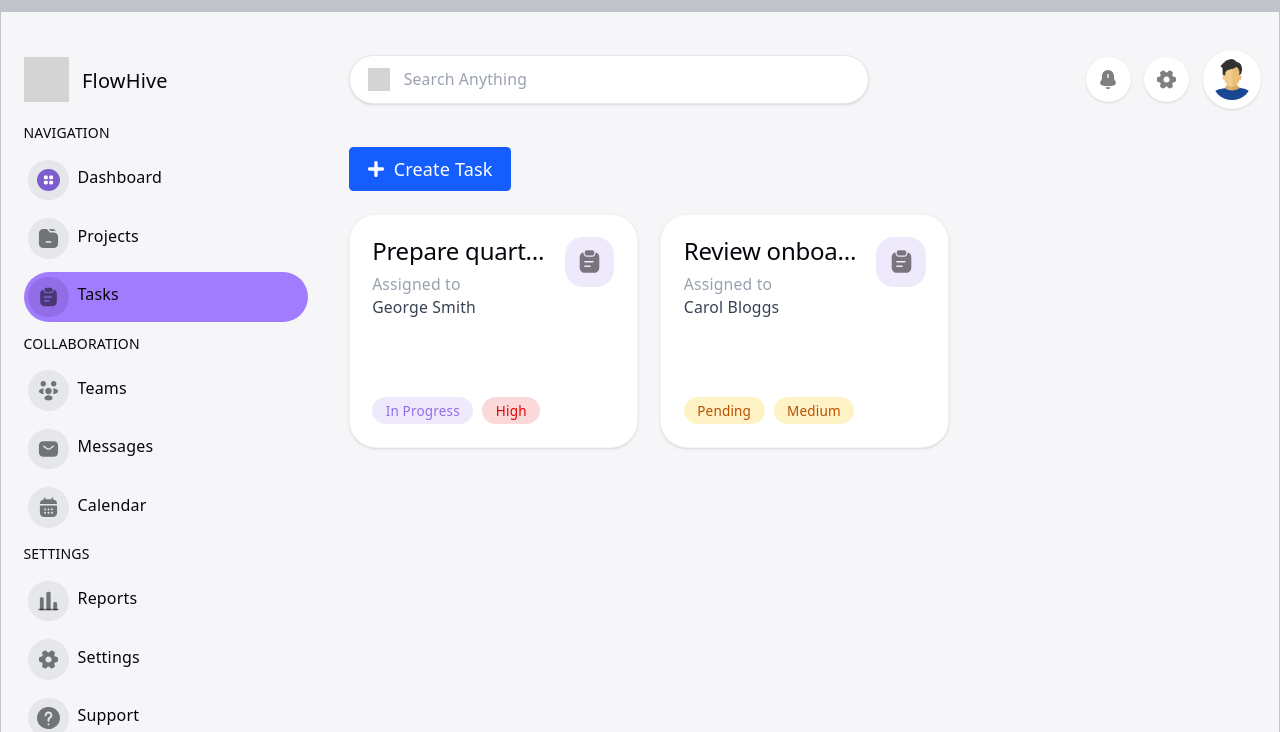
Test: Tasks › opens the create task form and creates a task
Click the button "Create Task". click: coordinates (430, 169)
box: [349, 147, 511, 191]
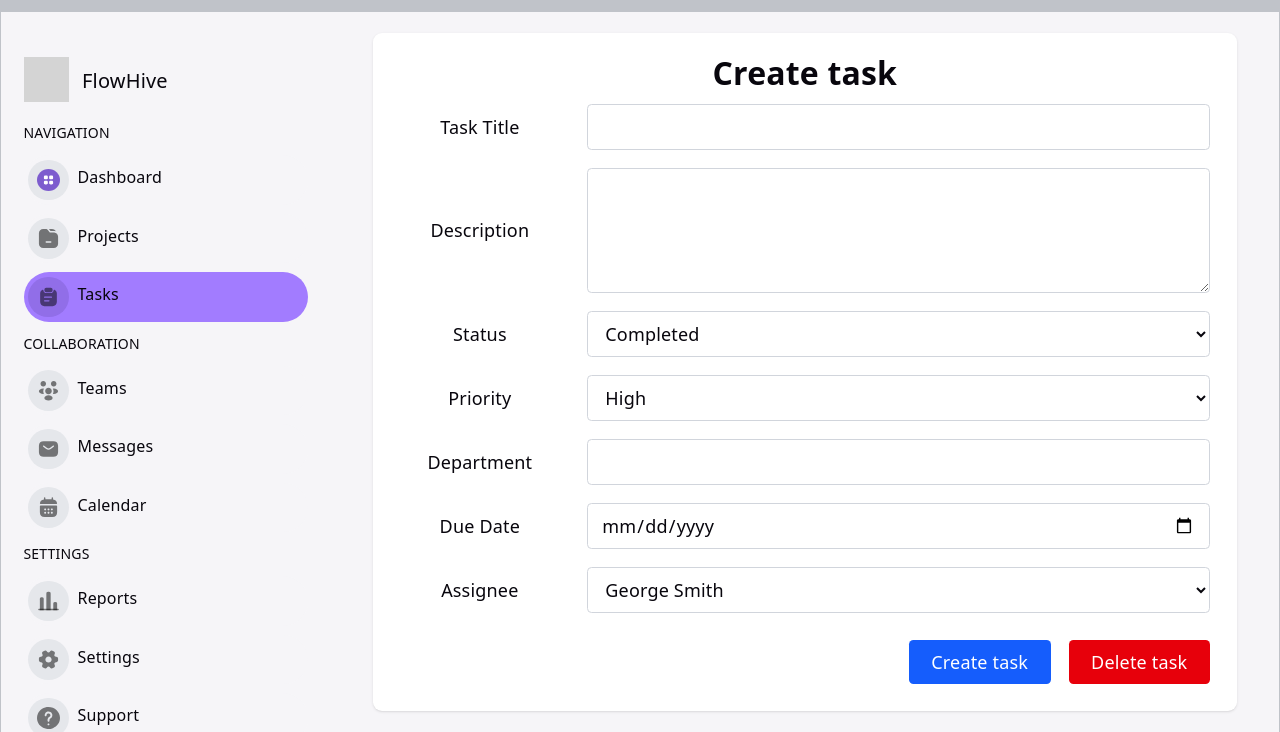
Check: the text "Create task" is shown, box [712, 51, 897, 94]
Type "Prepare quarterly report" into the field with id "title". click: coordinates (899, 127)
box: [587, 104, 1210, 150]
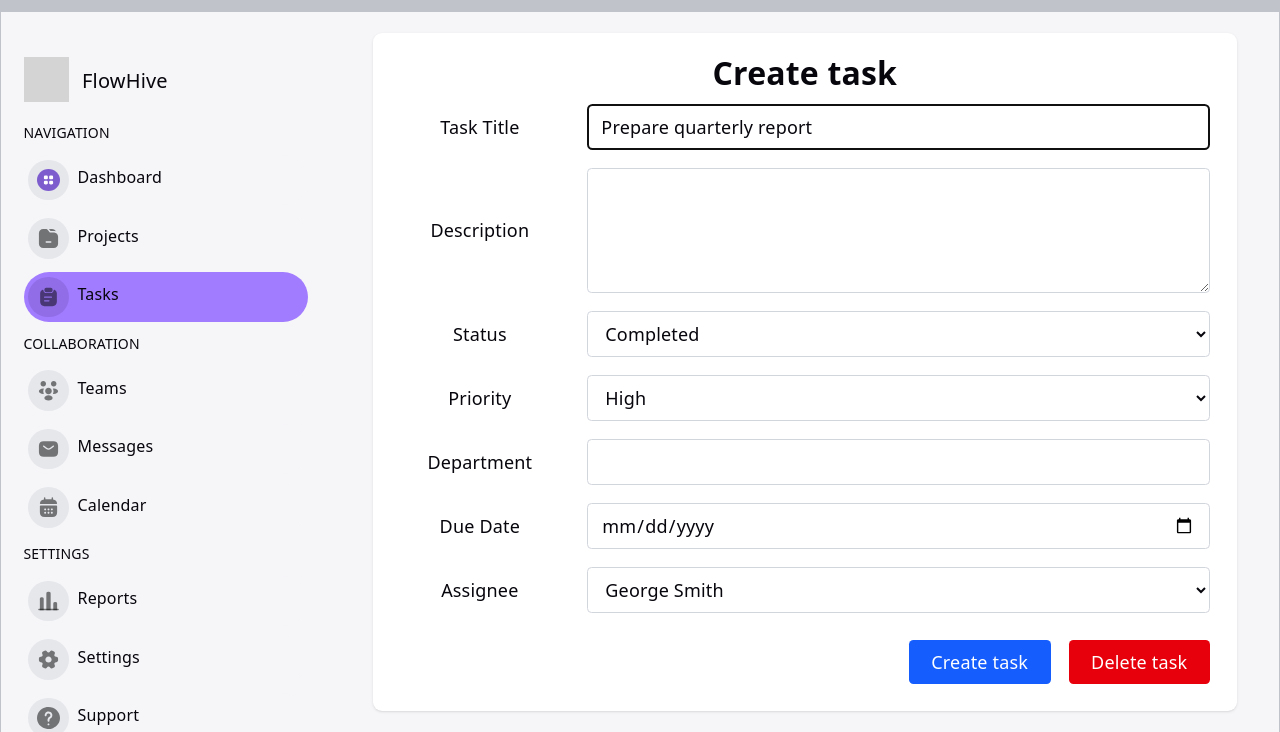
Type "Compile the quarterly results." into the text box with id "description". click: coordinates (899, 230)
box: [587, 168, 1210, 292]
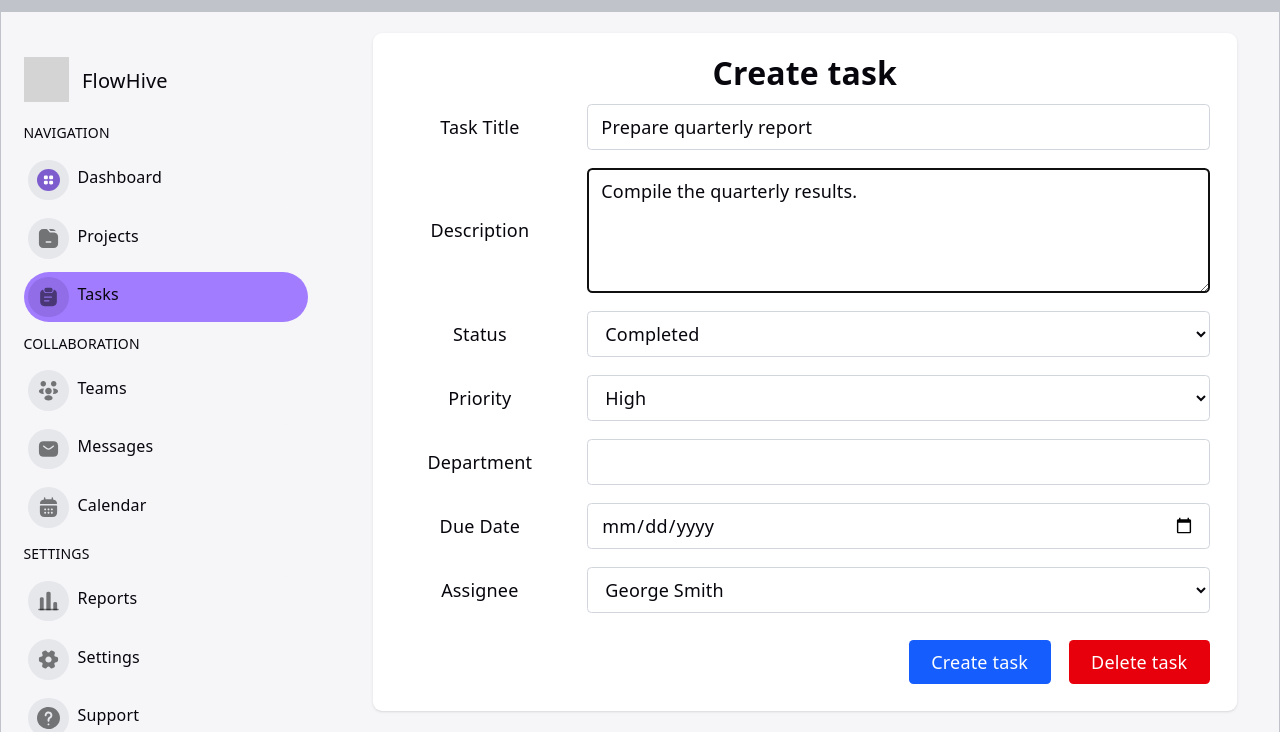
Type "Finance" into the field with id "department". click: coordinates (899, 462)
box: [587, 439, 1210, 485]
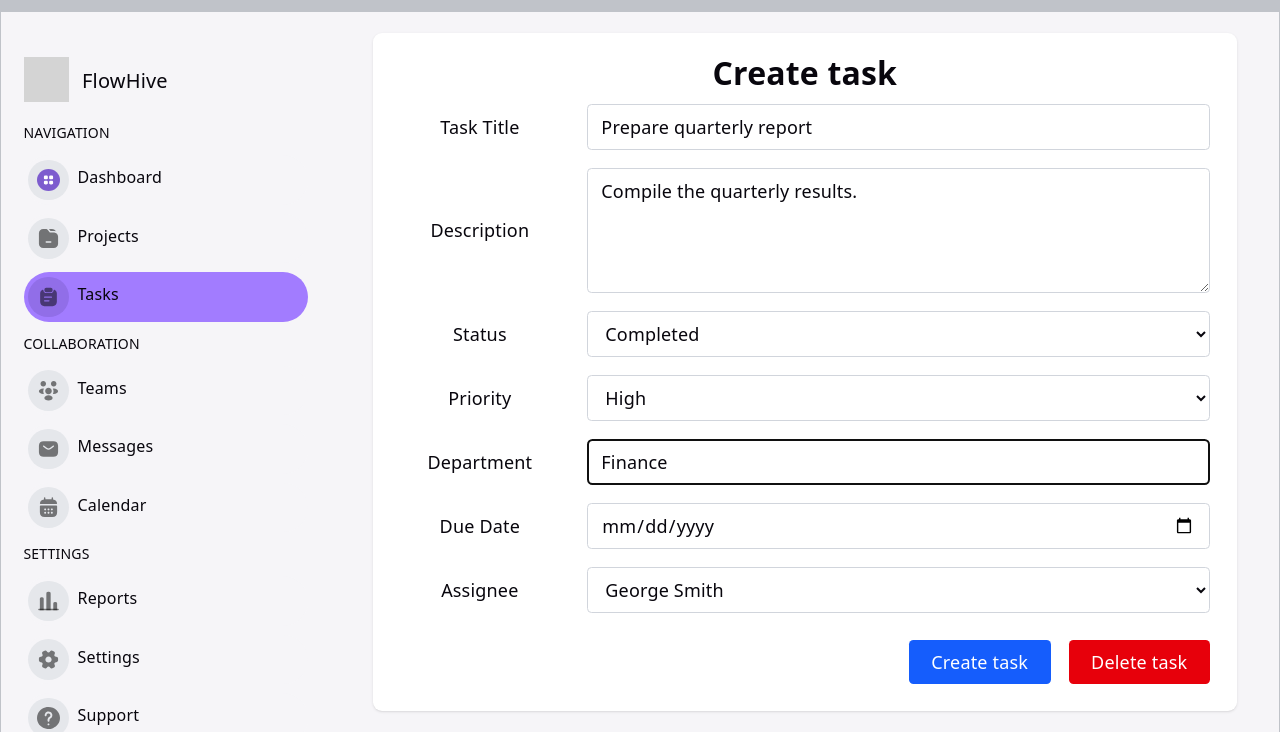
Click the button "Create task". click: coordinates (980, 662)
box: [909, 640, 1051, 684]
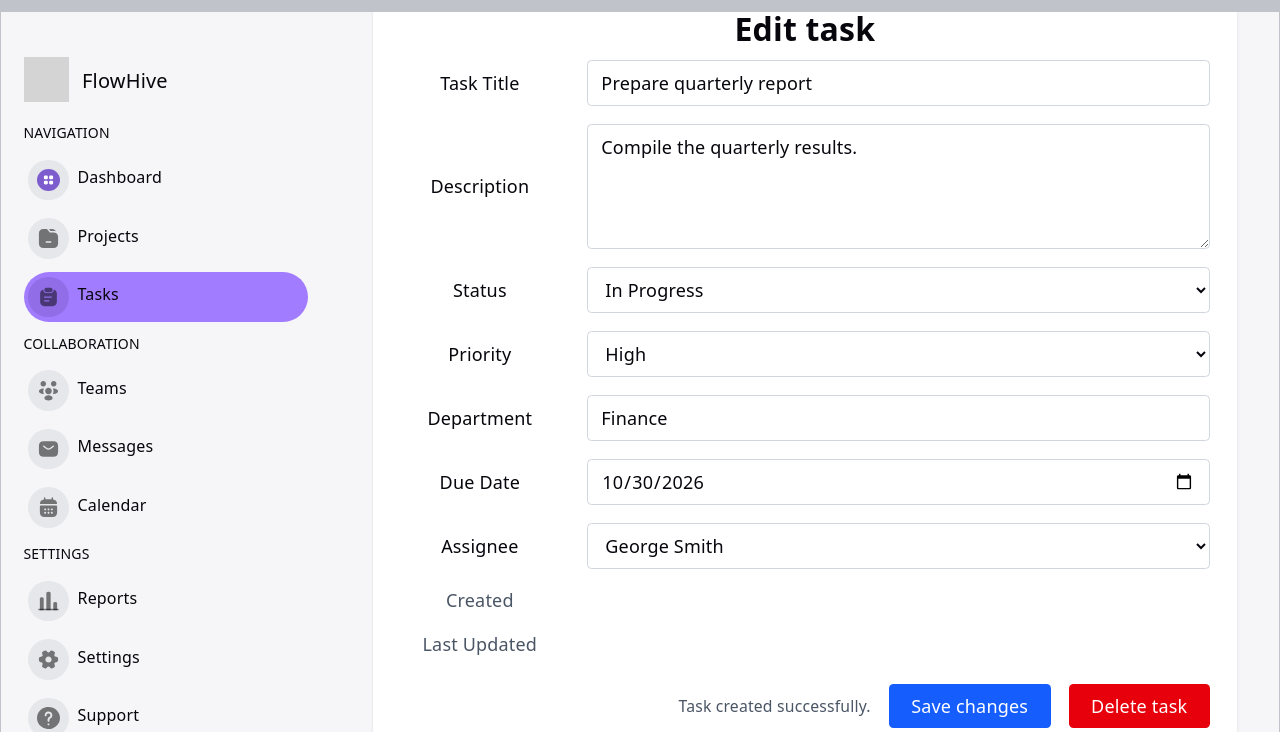
Check: the text "Task created successfully." is shown, box [678, 695, 871, 717]
